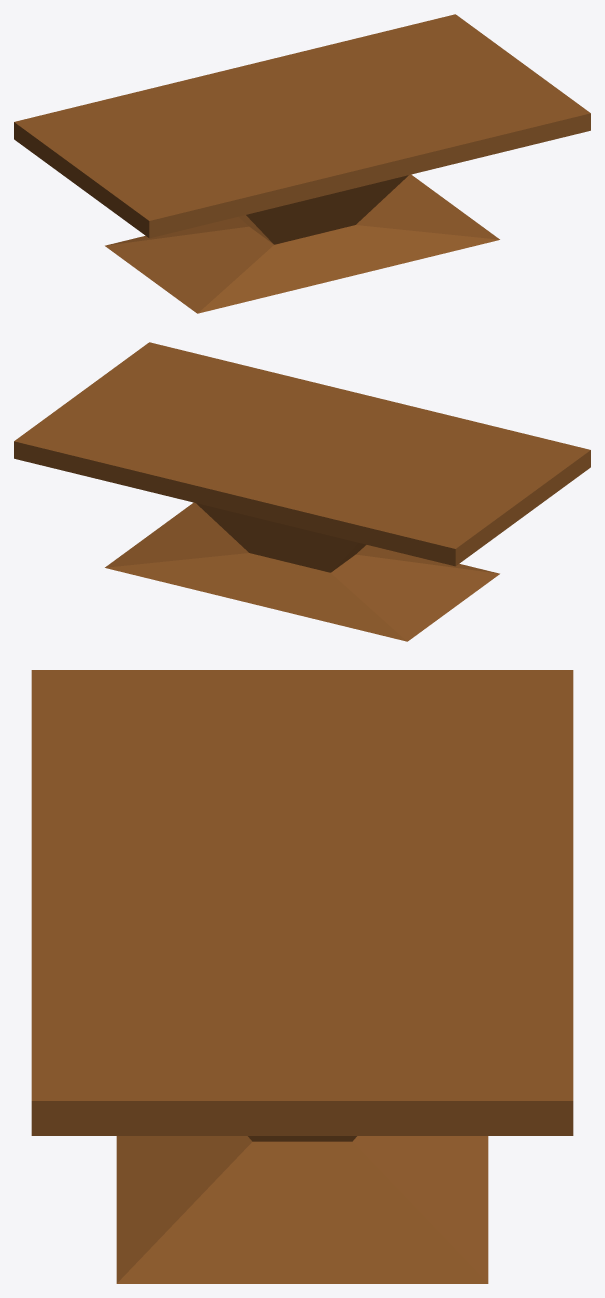
The model's file is Table 2.fbx.
The picture shows the model from 3 angles, top to bottom: view 1: azimuth 30°, elevation 25°; view 2: azimuth 150°, elevation 25°; view 3: azimuth 270°, elevation 25°; orthographic projection. The views are drawn at different scales.
Parts seen in each view (by area): view 1: Table 2; view 2: Table 2; view 3: Table 2.
Part boxes in pixels (left/top/right/bottom): Table 2: left=14, top=14, right=590, bottom=313; Table 2: left=14, top=342, right=590, bottom=641; Table 2: left=31, top=670, right=573, bottom=1283.
Size of the model in its own units: 91.94 by 24.9 by 48.82.
